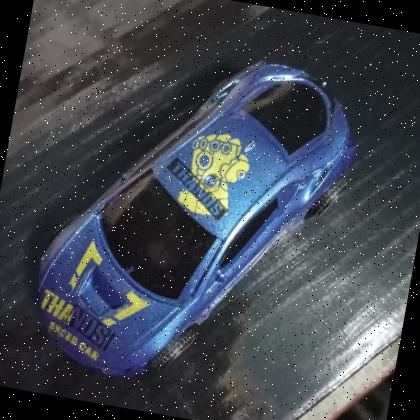Car: (34, 62, 358, 379)
